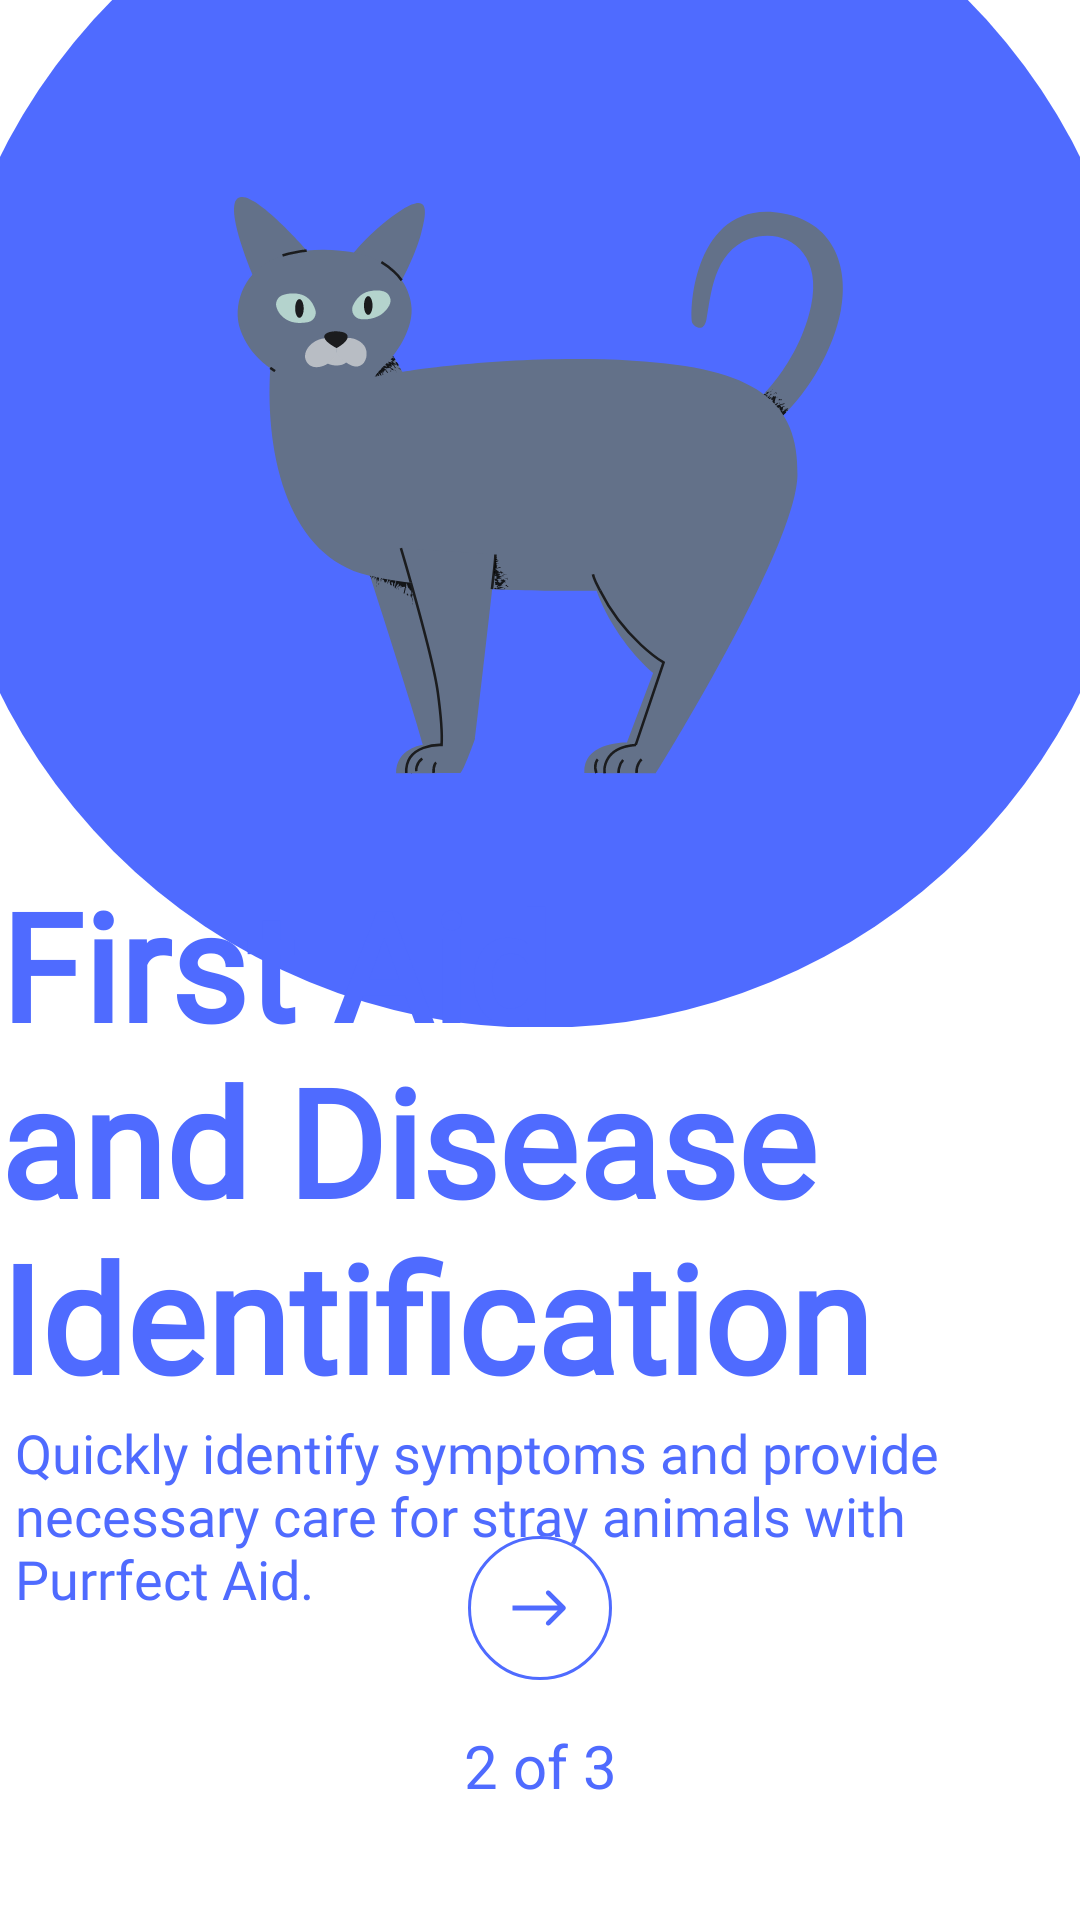

Named icons in this screenshot (1080*1920) and their bounding boxes, detection(x1, y1, x2, y2):
Next: detection(468, 1536, 612, 1680)
